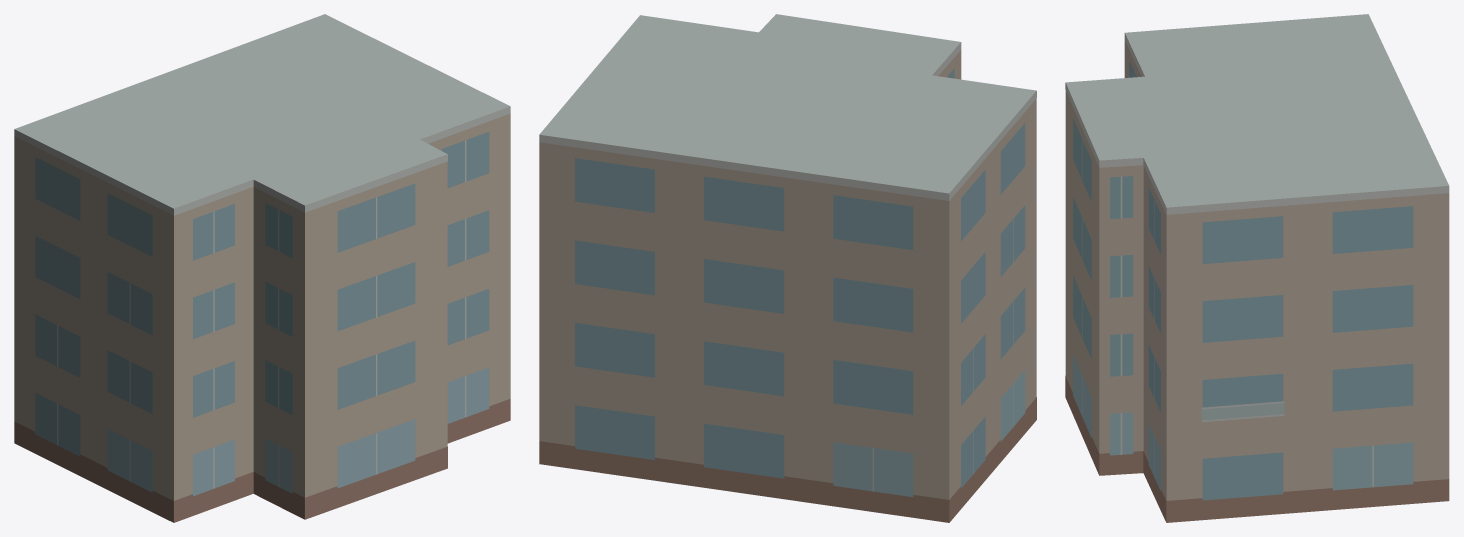
File: survey-upis-32488950.glb
3 renders of one model, left to right at view 1: azimuth 30°, elevation 25°; view 2: azimuth 150°, elevation 25°; view 3: azimuth 270°, elevation 25°, orthographic. The views are drawn at different scales.
Parts seen in each view (by area): view 1: survey-upis-32488950.tmp; view 2: survey-upis-32488950.tmp; view 3: survey-upis-32488950.tmp.
Boxes of the visible parts, <box> form: survey-upis-32488950.tmp: <box>14,14,510,522</box>; survey-upis-32488950.tmp: <box>539,14,1036,522</box>; survey-upis-32488950.tmp: <box>1065,14,1449,522</box>.
Bounding box in the file's own units: 14.13 × 10.71 × 11.83.
